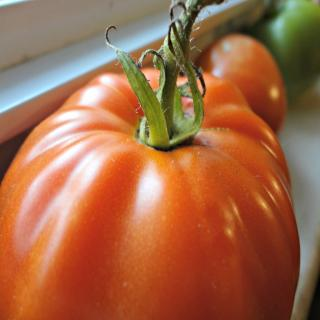tomato: (10, 27, 297, 320), (199, 33, 286, 134)
